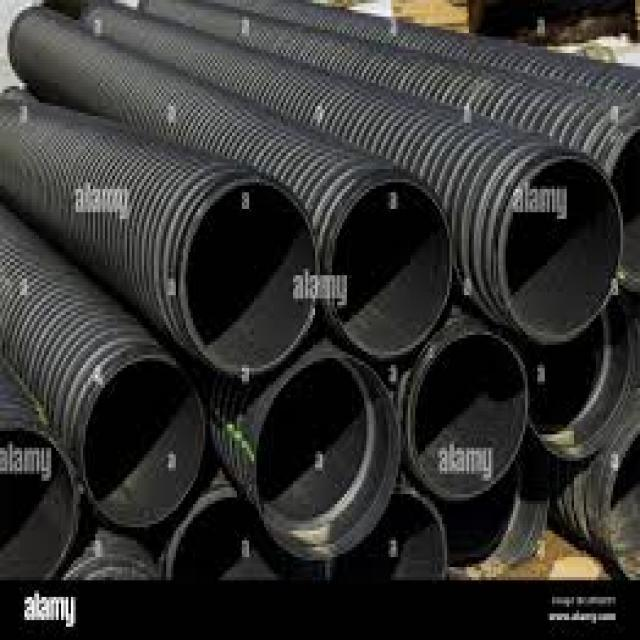pipe: (256, 356, 403, 562), (185, 181, 316, 369), (83, 359, 207, 532), (504, 160, 623, 338), (332, 184, 452, 355), (411, 336, 530, 502), (532, 302, 640, 461), (447, 445, 557, 580), (170, 495, 322, 584), (0, 430, 74, 583), (329, 499, 445, 580)
